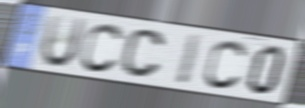0: (246, 44, 287, 97)
C: (119, 27, 167, 80), (79, 21, 126, 75), (203, 38, 250, 92)
I: (174, 32, 204, 87)
U: (39, 13, 89, 70)
